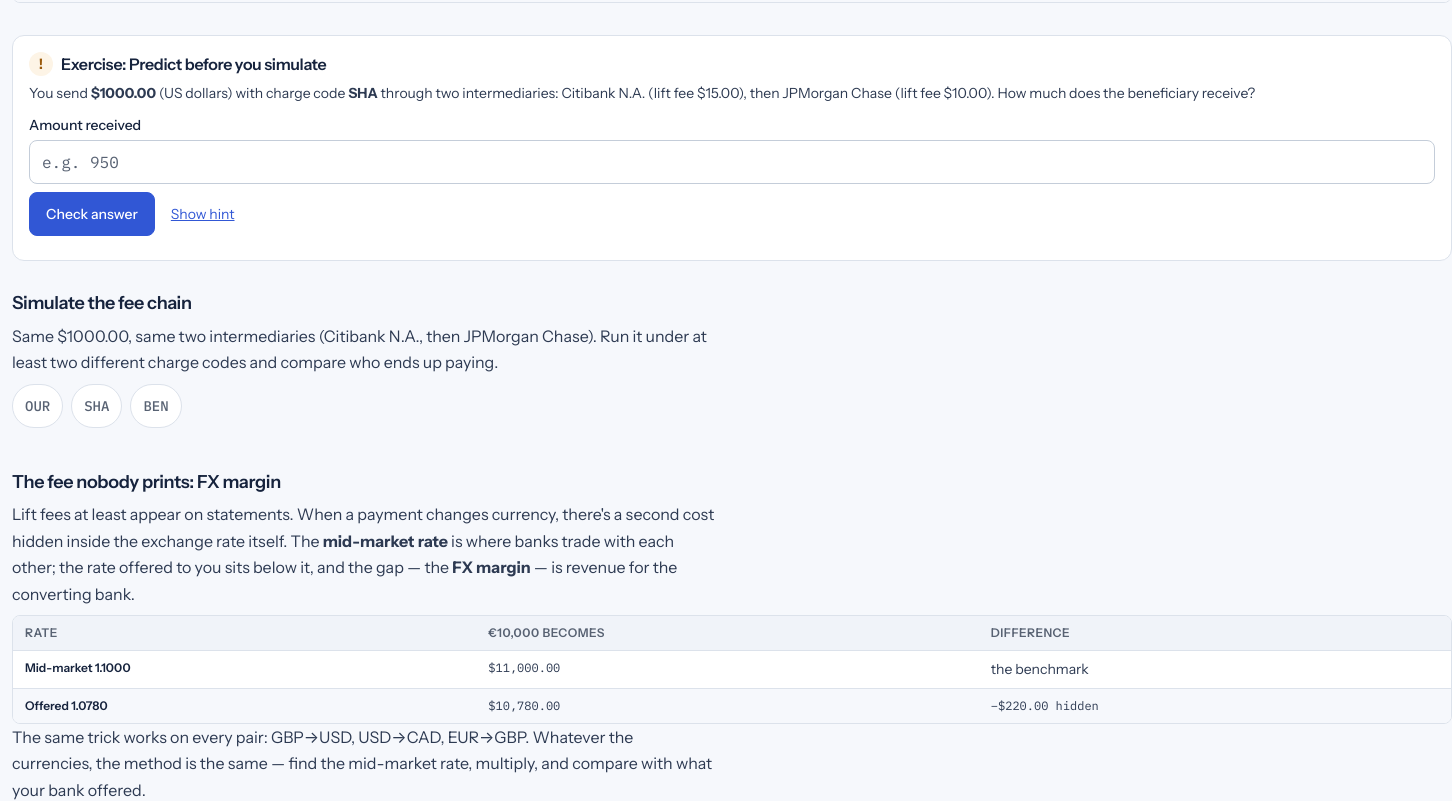
Test: FeesFxContent › shows an error when the simulation fails
This screenshot has width=1452, height=801.
(page scrolled)
Click the button "SHA". click: (97, 406)
box: [71,384,122,428]
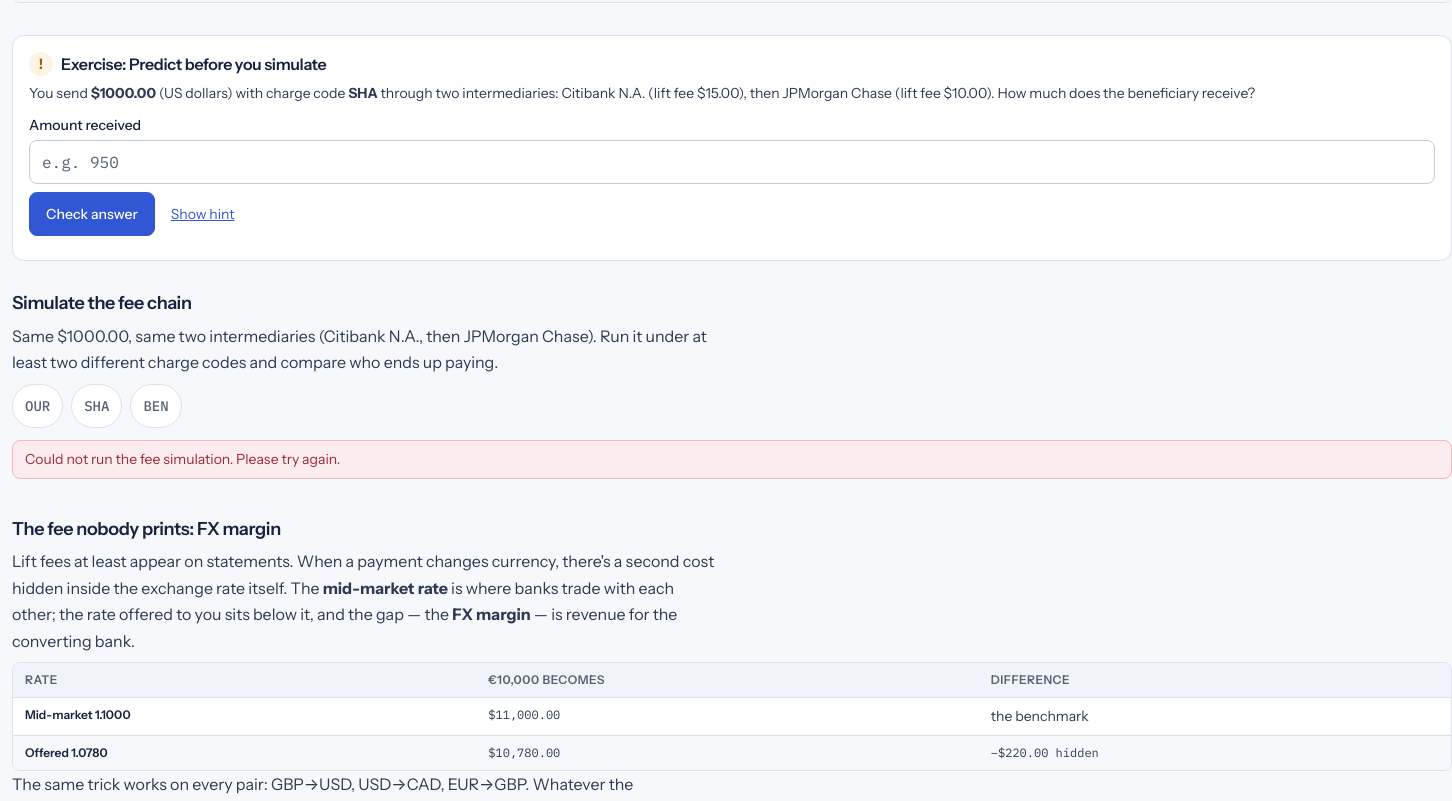
Result: the message shows "Could not run" at [25,450,340,468]
